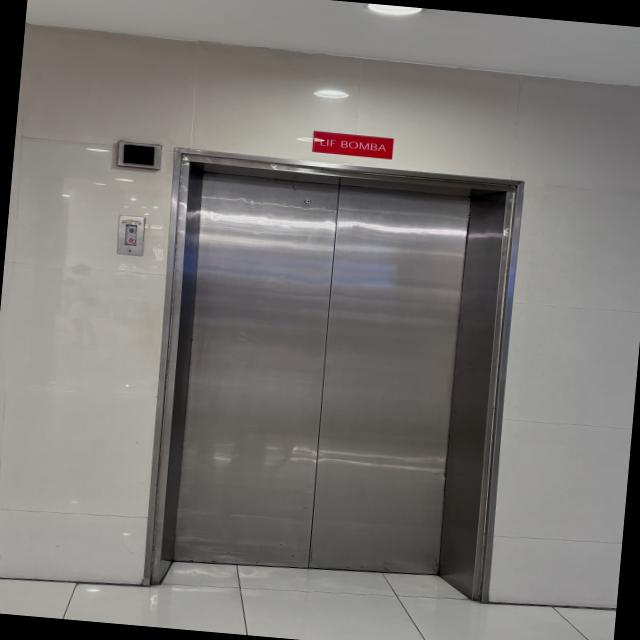elevator: (70, 104, 548, 614)
